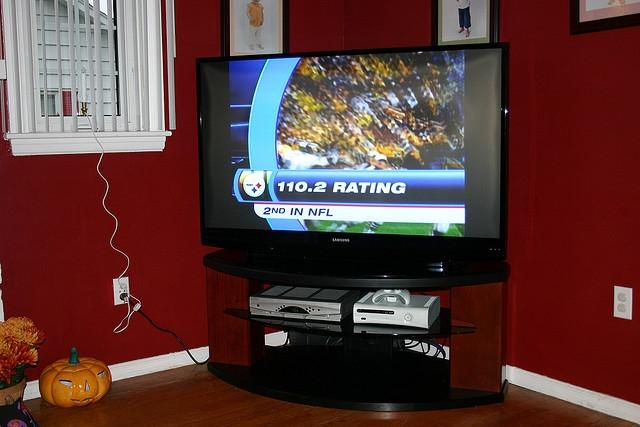pumpkin: (38, 348, 112, 408)
